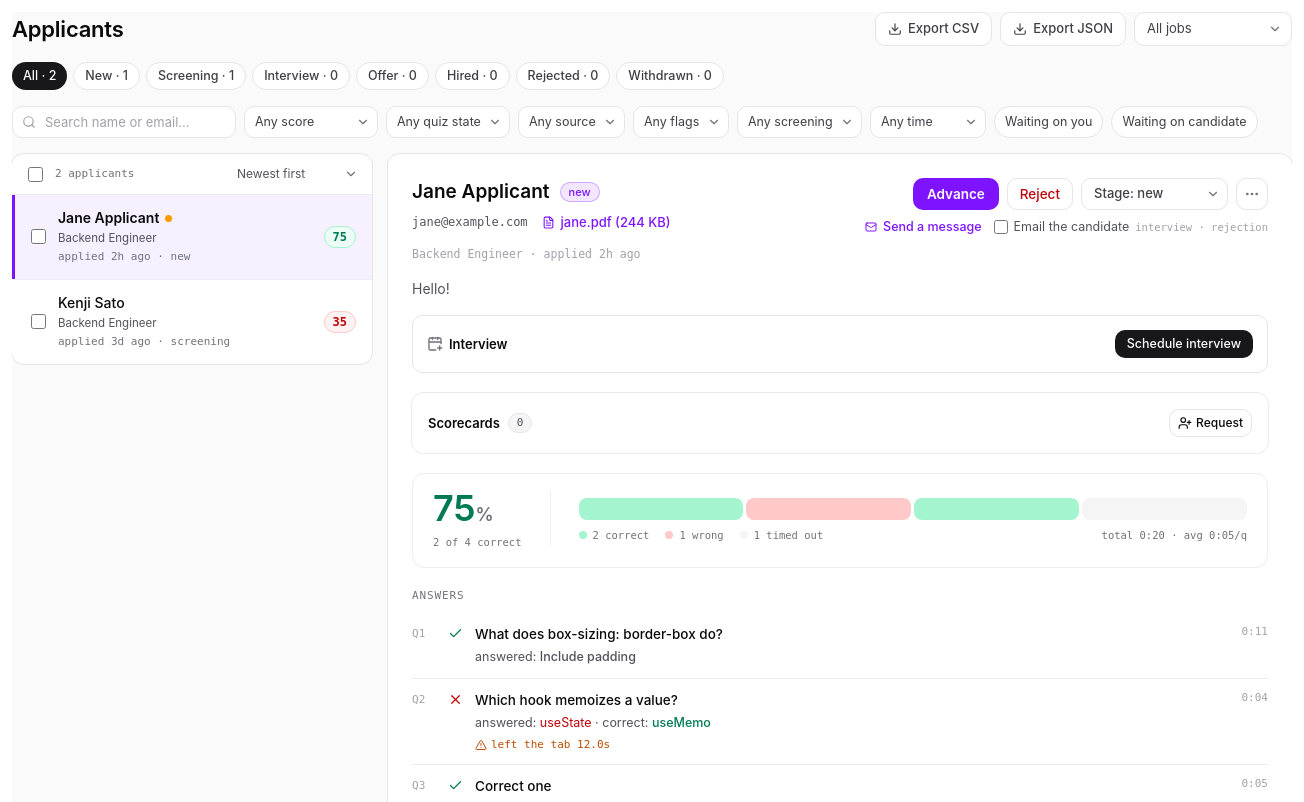
Scenario: ApplicantsPage › confirms a stage move with a toast whose Undo moves the row back quietly
The image size is (1304, 802).
Expected: the heading "Jane Applicant" is shown, [412,178,550,206]
Click the button "Advance" at (956, 194), box [913,178,999,210]
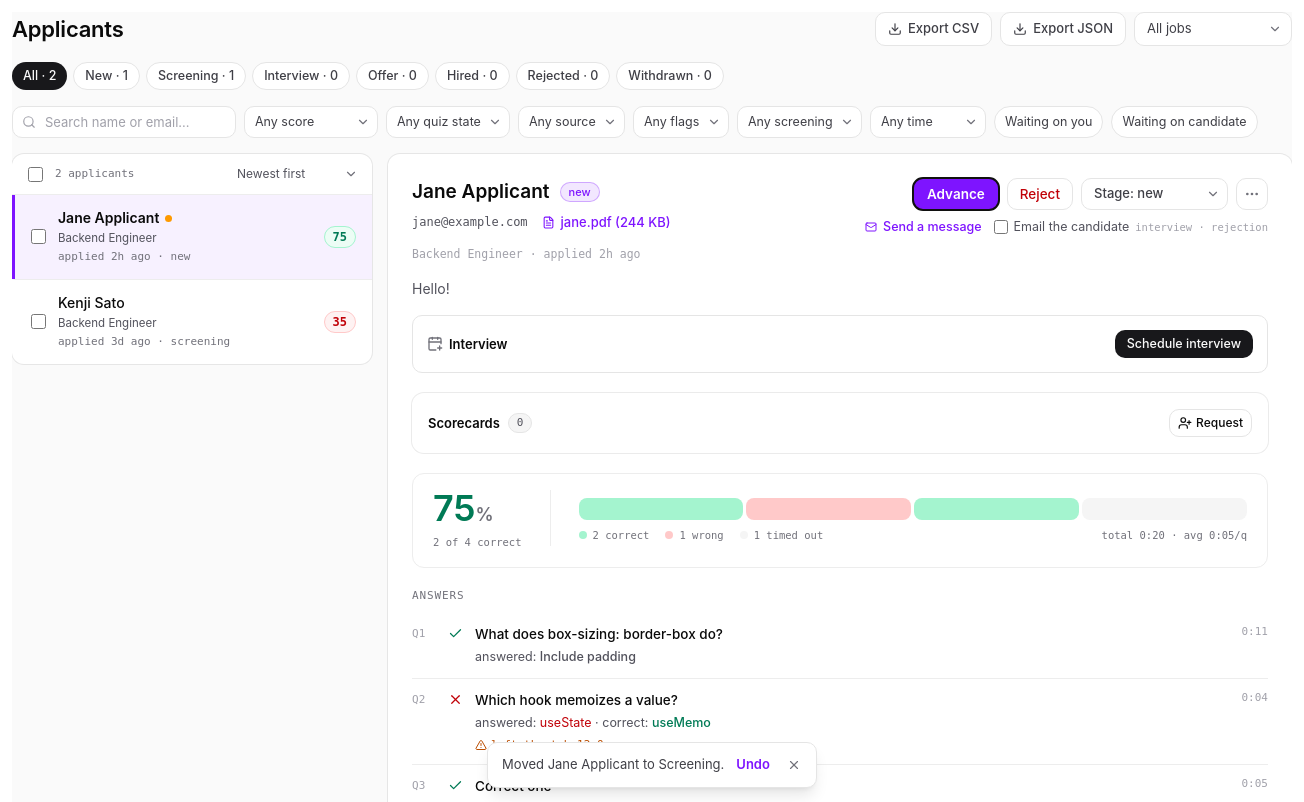
Expected: the message does not show "Email sent", [487,742,817,788]
Result: the message shows "Moved Jane Applicant to Screening." at [502,756,724,772]
Click the button "Undo" at (753, 765), box [736,755,770,775]
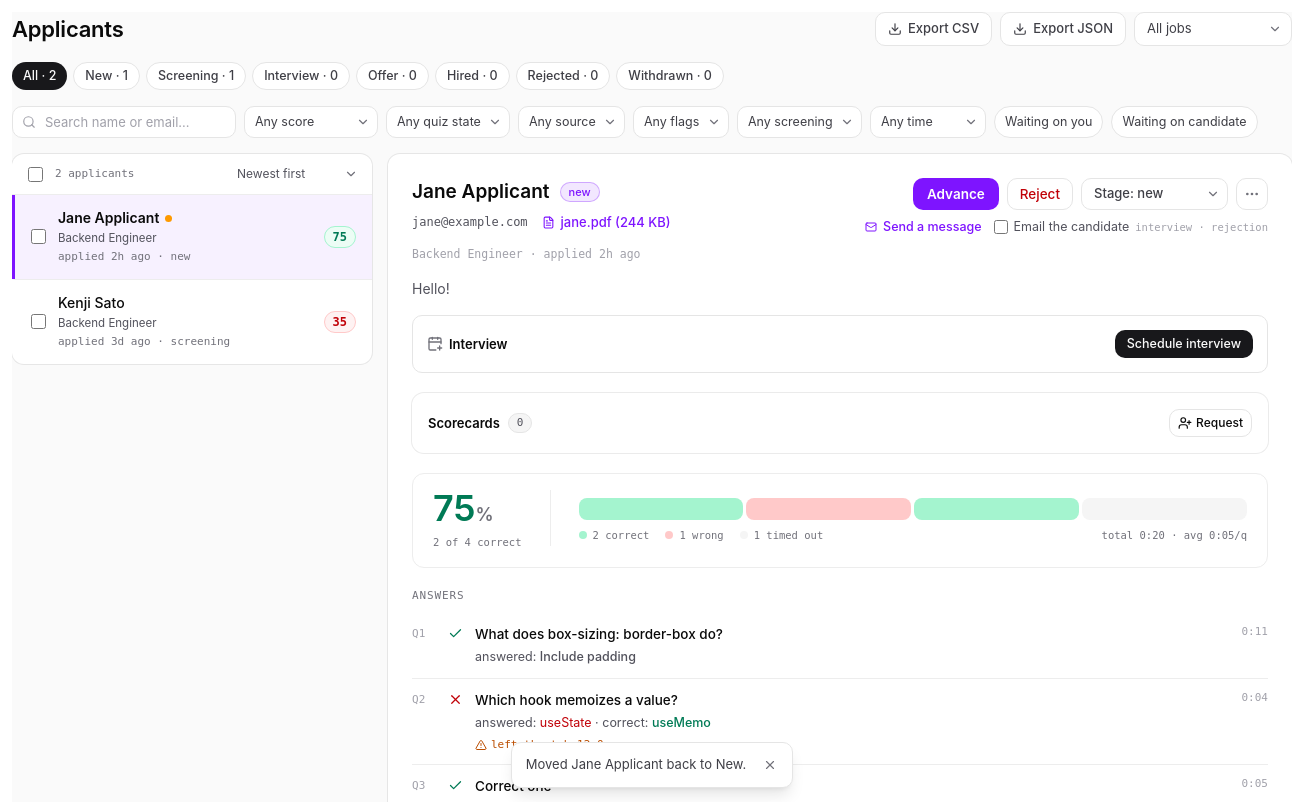
Result: the message reads "Moved Jane Applicant back to New." at [526,756,746,772]
